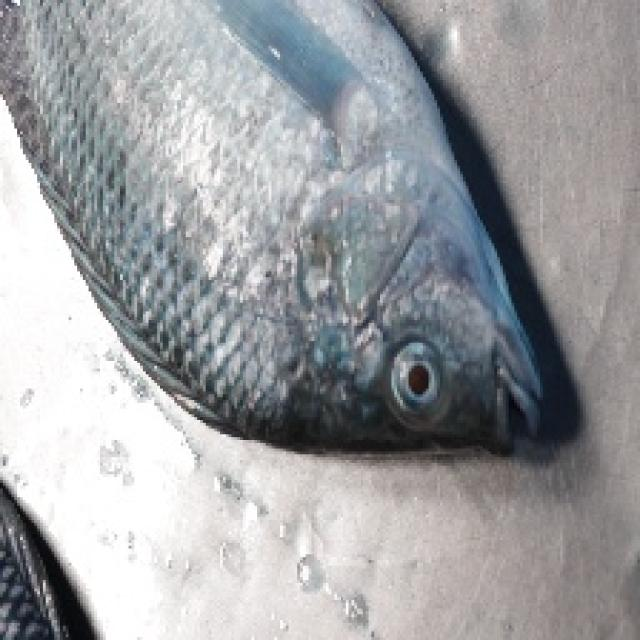Fresh: (34, 16, 582, 491), (378, 330, 461, 420)
